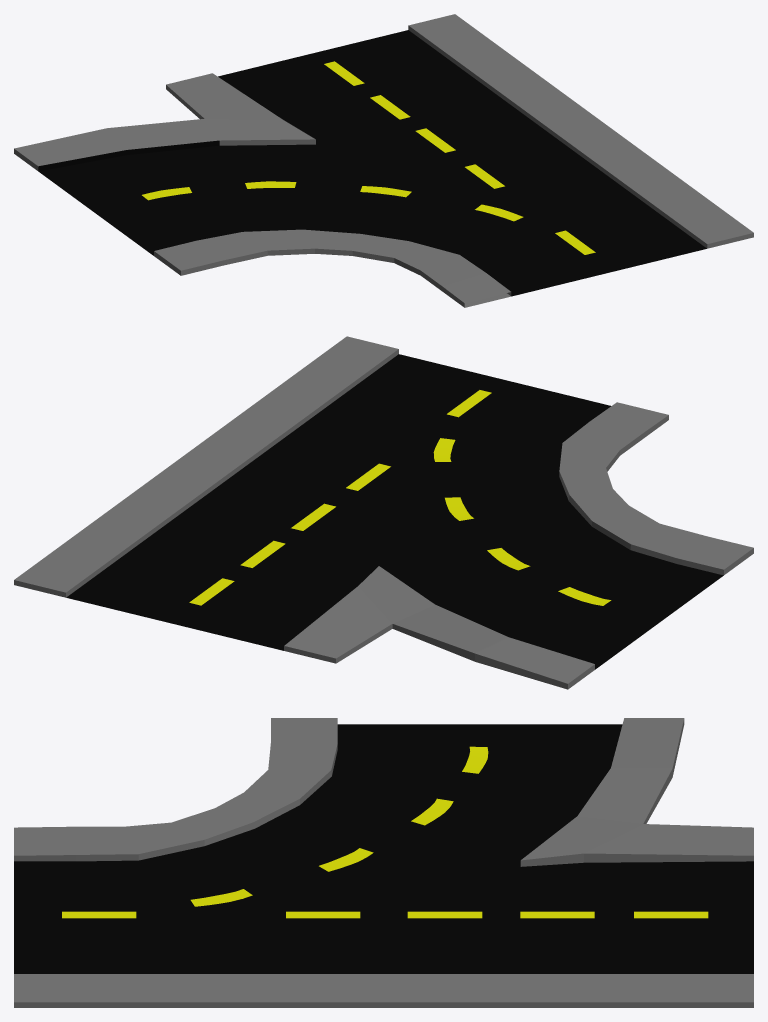
The model's file is Two Path Road V2.fbx.
3 views of the same model, one above another, from view 1: azimuth 30°, elevation 25°; view 2: azimuth 150°, elevation 25°; view 3: azimuth 270°, elevation 25° (orthographic). The views are drawn at different scales.
Parts seen in each view (by area): view 1: polySurface441; view 2: polySurface441; view 3: polySurface441.
Part boxes in pixels (x1,y1,x2,y2): polySurface441: (14,14,753,307); polySurface441: (14,336,753,689); polySurface441: (14,718,753,1007).
Bounding box in the file's own units: 20.1 × 0.3057 × 22.17.
